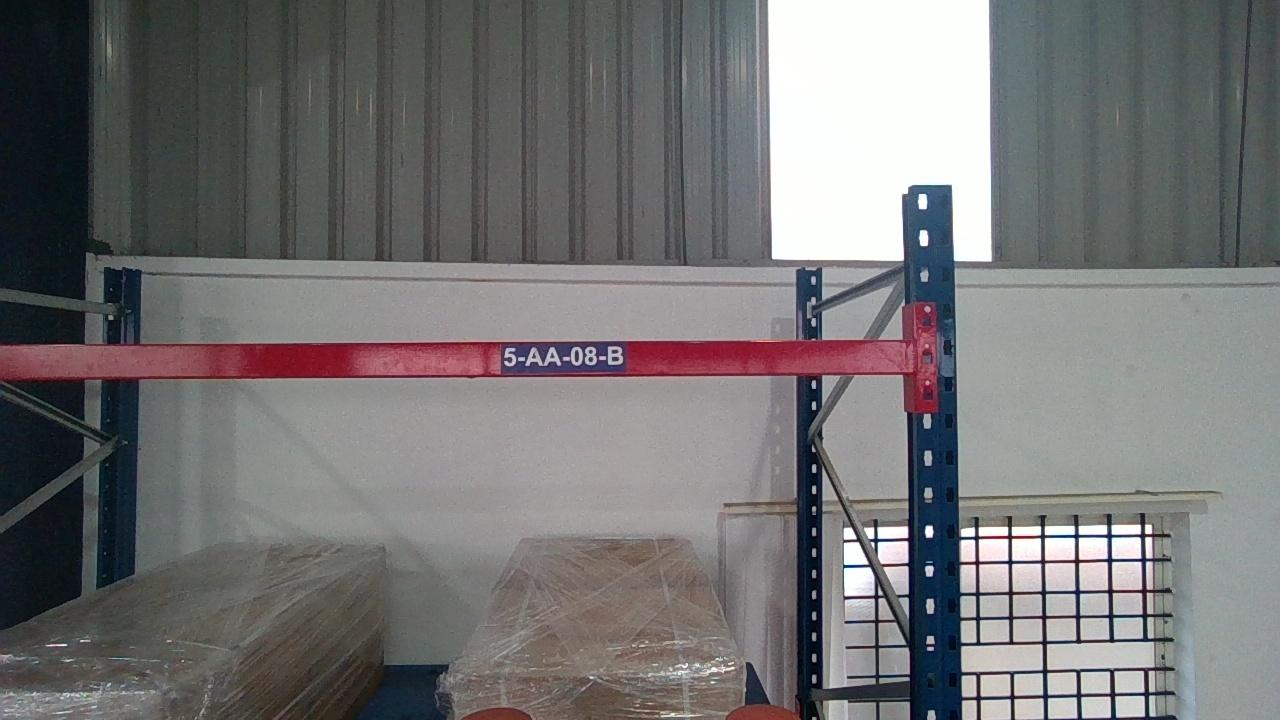h_rack: (0, 339, 914, 380)
